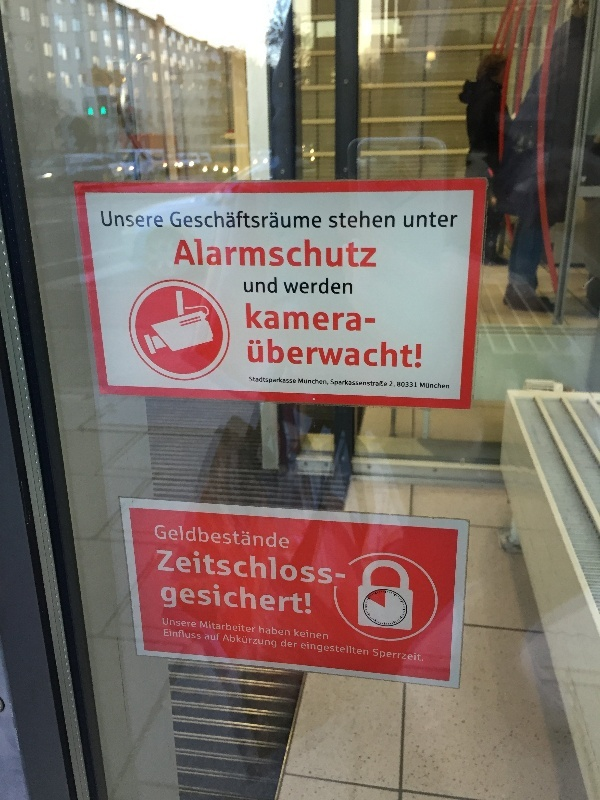text: (161, 546, 176, 587), (177, 546, 192, 587), (193, 546, 208, 587), (209, 546, 224, 587), (225, 546, 240, 587), (241, 546, 256, 587), (257, 546, 272, 587), (273, 546, 288, 587), (289, 546, 304, 587), (305, 546, 320, 587), (321, 546, 336, 587), (161, 581, 176, 616), (177, 581, 192, 616), (193, 581, 208, 616), (209, 581, 224, 616), (225, 581, 240, 616), (241, 581, 256, 616), (257, 581, 272, 616), (273, 581, 288, 616), (289, 581, 304, 616), (193, 238, 208, 270), (209, 238, 224, 270), (225, 238, 240, 270), (241, 238, 256, 270), (257, 238, 272, 270), (273, 238, 288, 270), (289, 238, 304, 270), (305, 238, 320, 270), (321, 238, 336, 270), (337, 238, 352, 270), (353, 238, 368, 270), (257, 338, 272, 370), (273, 338, 288, 370), (289, 338, 304, 370), (305, 338, 320, 370), (321, 338, 336, 370), (337, 338, 352, 370), (353, 338, 368, 370), (369, 338, 384, 370), (385, 338, 400, 370), (401, 338, 416, 370), (257, 303, 272, 332), (273, 303, 288, 332), (289, 303, 304, 332), (305, 303, 320, 332), (321, 303, 336, 332), (337, 303, 352, 332), (353, 303, 368, 332), (273, 524, 289, 550), (337, 546, 347, 587), (161, 524, 176, 550), (177, 524, 192, 550), (193, 524, 208, 550), (209, 524, 224, 550), (225, 524, 240, 550), (241, 524, 256, 550), (257, 524, 272, 550), (181, 238, 192, 270), (369, 238, 379, 270), (246, 303, 256, 332), (337, 277, 353, 295), (247, 338, 256, 370), (177, 211, 192, 230), (193, 211, 208, 230), (209, 211, 224, 230), (225, 211, 240, 230), (241, 211, 256, 230), (257, 211, 272, 230), (273, 211, 288, 230), (289, 211, 304, 230), (305, 211, 320, 230), (417, 209, 432, 228), (433, 209, 448, 228), (337, 210, 352, 228), (353, 210, 368, 228), (369, 210, 384, 228), (289, 277, 304, 295), (305, 277, 320, 295), (321, 277, 336, 295), (113, 211, 128, 228), (129, 211, 144, 228), (145, 211, 160, 228), (257, 277, 272, 294), (353, 641, 369, 656), (404, 209, 416, 228), (305, 641, 320, 656), (321, 641, 336, 656), (337, 641, 352, 656), (305, 581, 311, 616), (241, 634, 256, 648), (257, 634, 272, 648), (244, 277, 256, 294), (226, 634, 240, 648), (385, 649, 400, 662), (401, 649, 416, 662), (449, 209, 459, 228), (101, 211, 112, 228), (385, 210, 395, 228), (209, 621, 224, 633), (225, 621, 240, 633), (241, 621, 256, 633), (273, 625, 288, 637), (369, 303, 375, 332), (177, 617, 192, 628), (305, 629, 320, 640), (177, 628, 192, 639), (156, 546, 160, 587), (417, 338, 422, 370), (260, 625, 272, 637), (163, 617, 176, 628), (257, 376, 272, 385), (273, 376, 288, 385), (164, 628, 176, 639), (155, 524, 160, 550), (374, 649, 384, 662), (329, 210, 336, 228), (337, 379, 352, 387), (353, 379, 368, 387), (369, 379, 384, 387), (170, 211, 176, 230), (401, 381, 417, 388), (305, 378, 320, 385), (433, 382, 448, 389), (295, 629, 304, 640), (417, 649, 424, 662), (283, 277, 288, 295), (193, 628, 201, 639), (420, 382, 432, 389), (201, 621, 208, 633), (289, 639, 298, 648), (321, 629, 328, 640), (209, 634, 220, 641), (289, 376, 297, 385), (390, 381, 400, 388), (273, 277, 277, 294), (249, 376, 256, 385), (281, 639, 288, 648), (321, 378, 329, 385), (273, 634, 277, 648), (301, 641, 304, 656), (193, 617, 197, 628), (331, 379, 336, 387), (299, 378, 304, 385), (161, 211, 163, 228), (385, 379, 388, 387), (205, 634, 208, 641), (321, 211, 322, 230), (398, 381, 400, 388), (289, 625, 290, 637), (449, 382, 450, 389)
